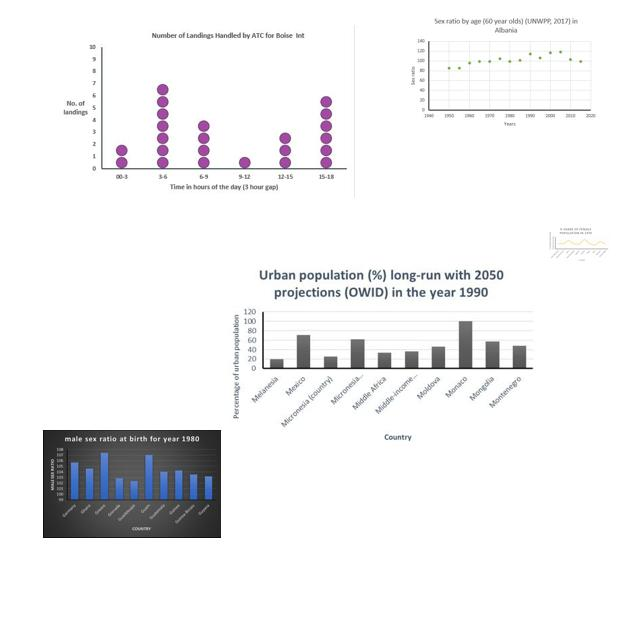Graph: (228, 263, 538, 447), (55, 25, 355, 198), (406, 16, 599, 131), (43, 430, 221, 538), (548, 226, 610, 263)
